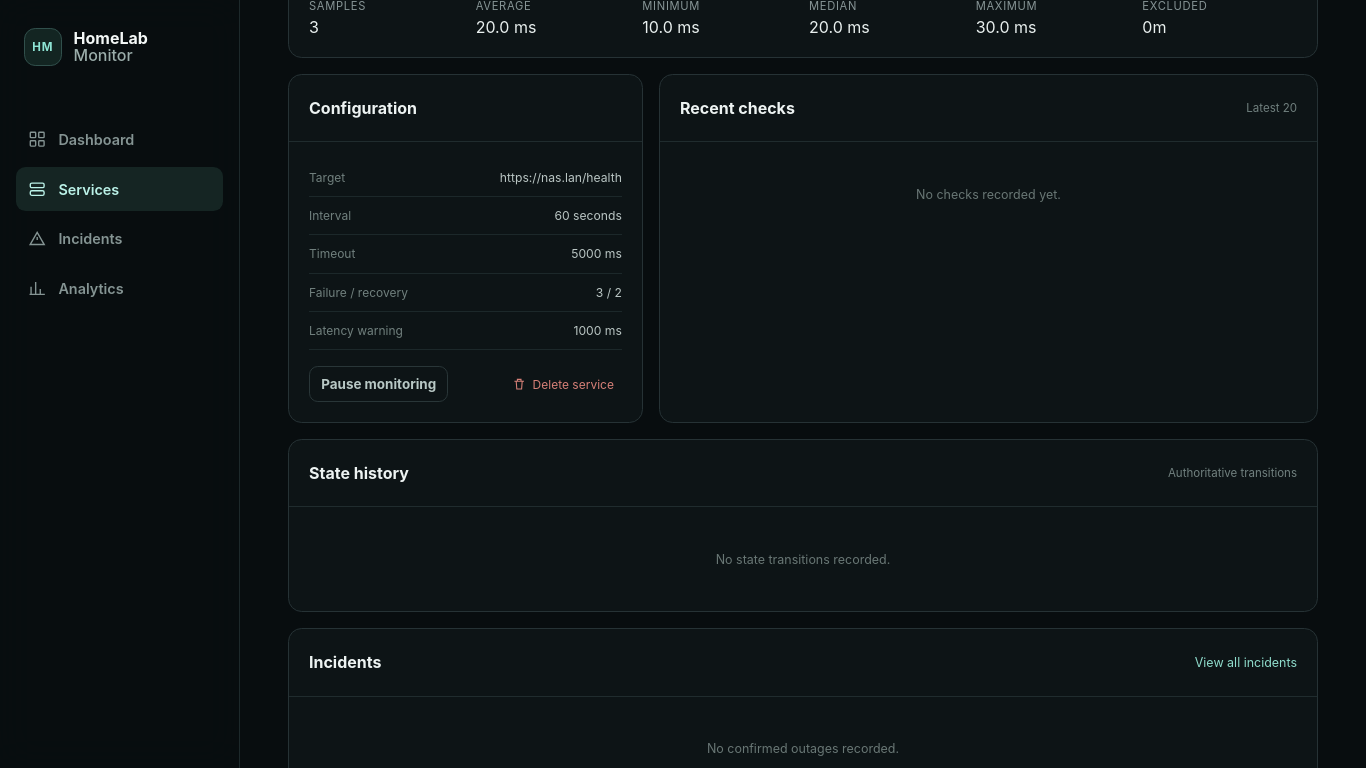
Test: monitoring dashboard › focuses the safe delete action and reports deletion failure
The image size is (1366, 768).
(page scrolled)
Click the button "Delete service" at (563, 384), box [504, 369, 622, 400]
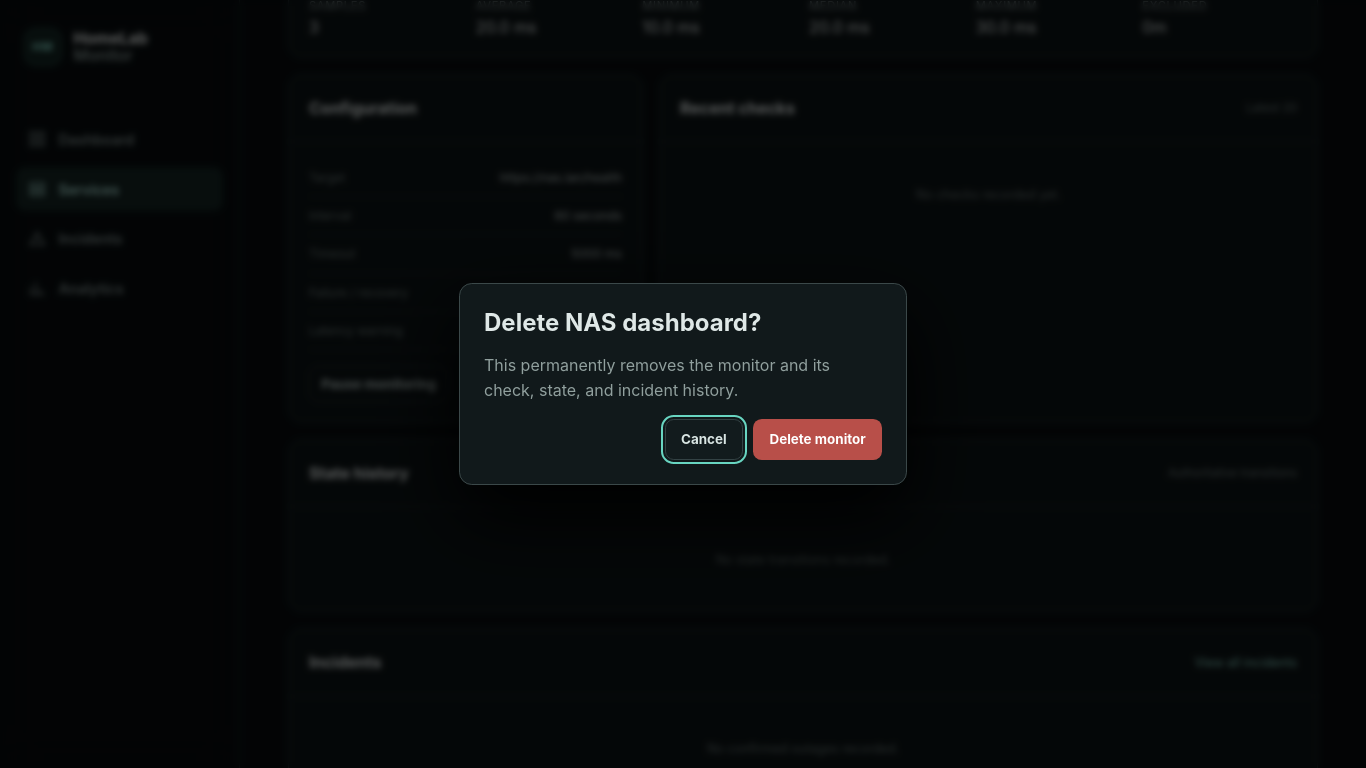
Click the button "Delete monitor" at (818, 439), box [753, 419, 882, 460]
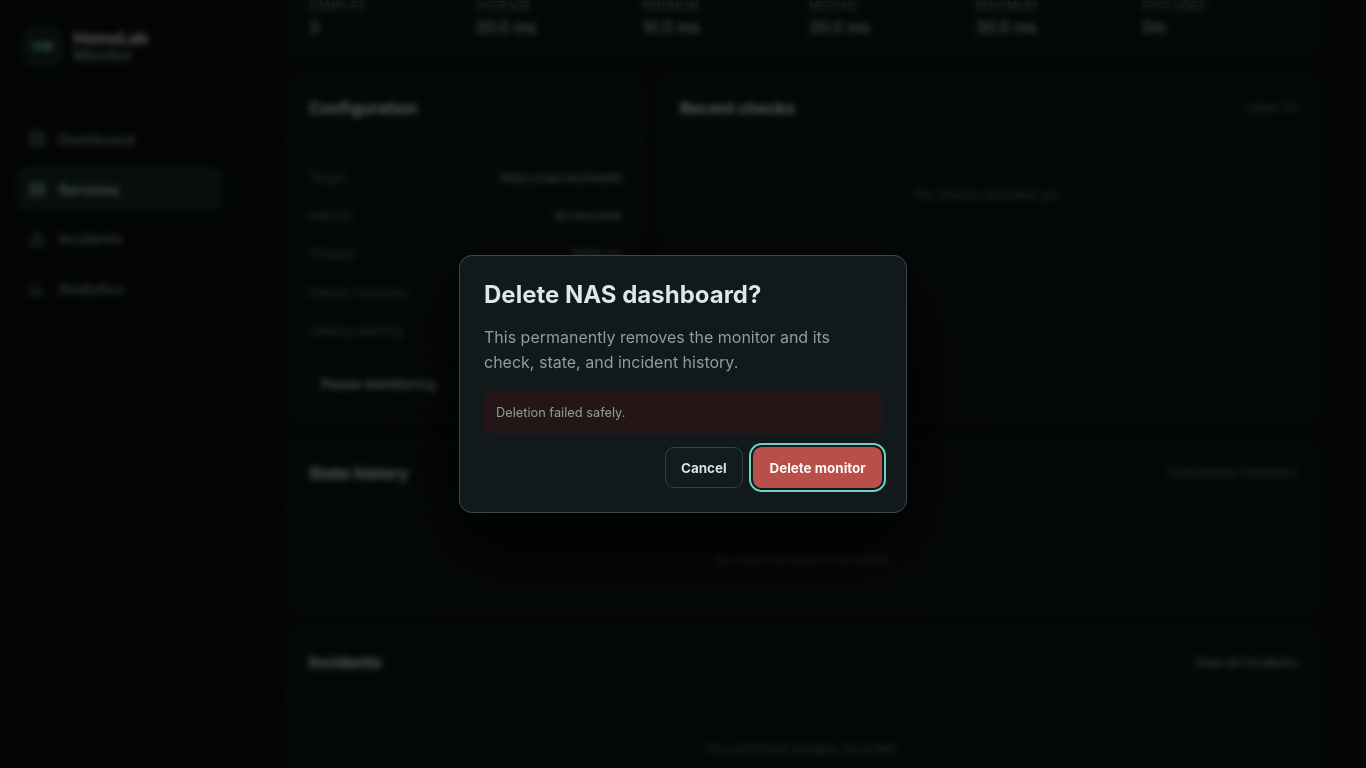
Result: the dialog "Delete NAS dashboard?" is shown at [459, 255, 907, 513]
Result: the message reads "Deletion failed safely." at [496, 405, 625, 420]
